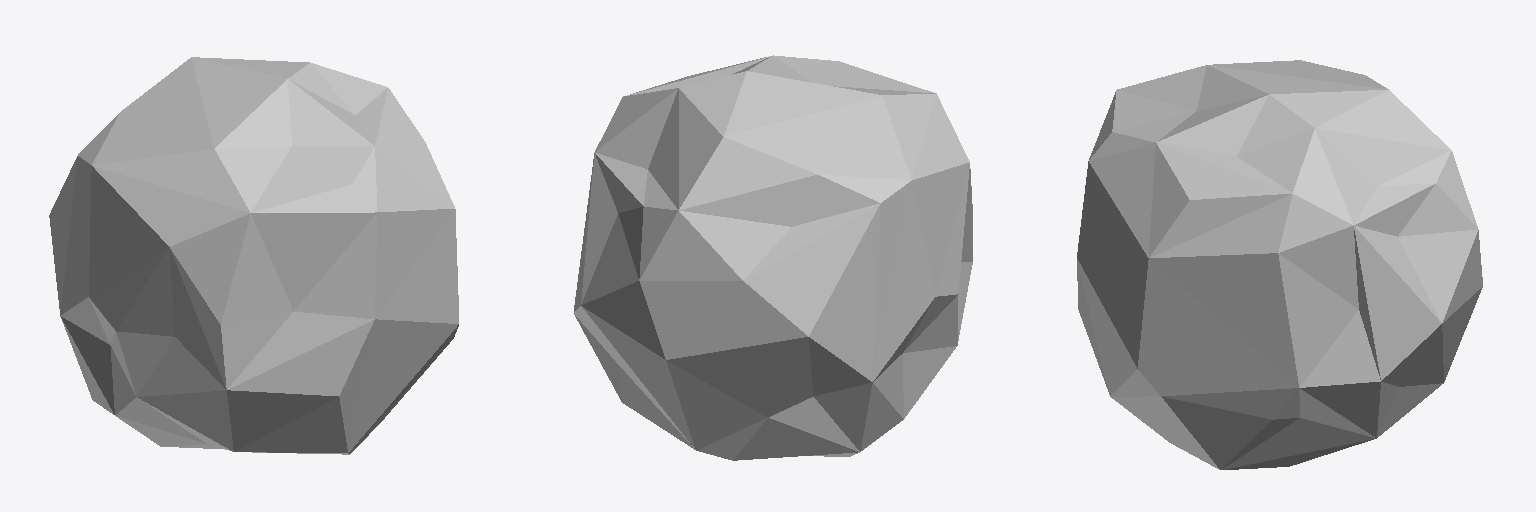
File: rock1.obj
3 views of the same model, side by side, from view 1: azimuth 30°, elevation 25°; view 2: azimuth 150°, elevation 25°; view 3: azimuth 270°, elevation 25° (orthographic).
Parts seen in each view (by area): view 1: Cube; view 2: Cube; view 3: Cube.
Part boxes in pixels (left/top/right/bottom): Cube: left=49, top=57, right=458, bottom=454; Cube: left=574, top=55, right=972, bottom=460; Cube: left=1077, top=60, right=1482, bottom=469.
Size of the model in its own units: 0.8072 by 0.8039 by 0.8481.